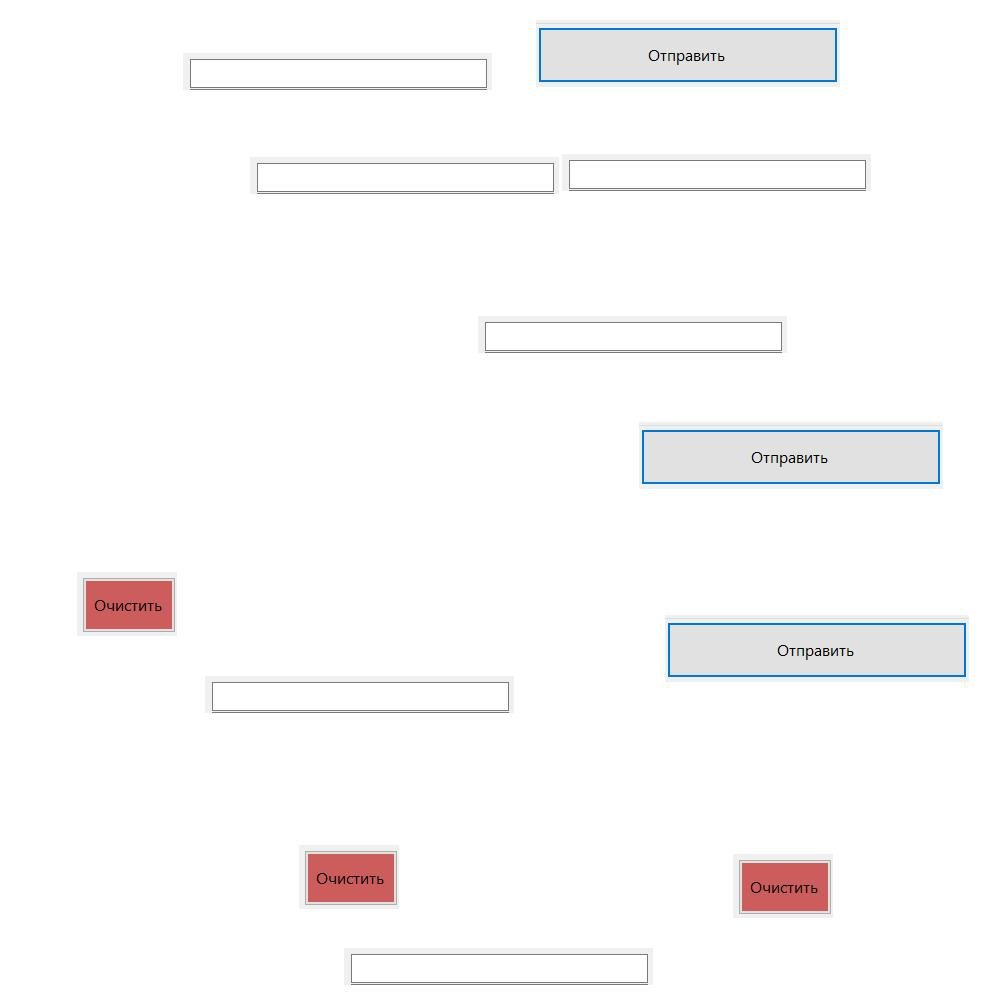Button: (665, 615, 969, 682), (536, 20, 840, 87), (639, 422, 943, 489), (299, 845, 399, 909), (733, 854, 833, 918), (77, 572, 177, 636)
EditText-: (562, 154, 871, 191), (344, 948, 653, 985), (205, 676, 514, 713), (183, 53, 492, 90), (478, 316, 787, 353), (250, 157, 559, 194)
